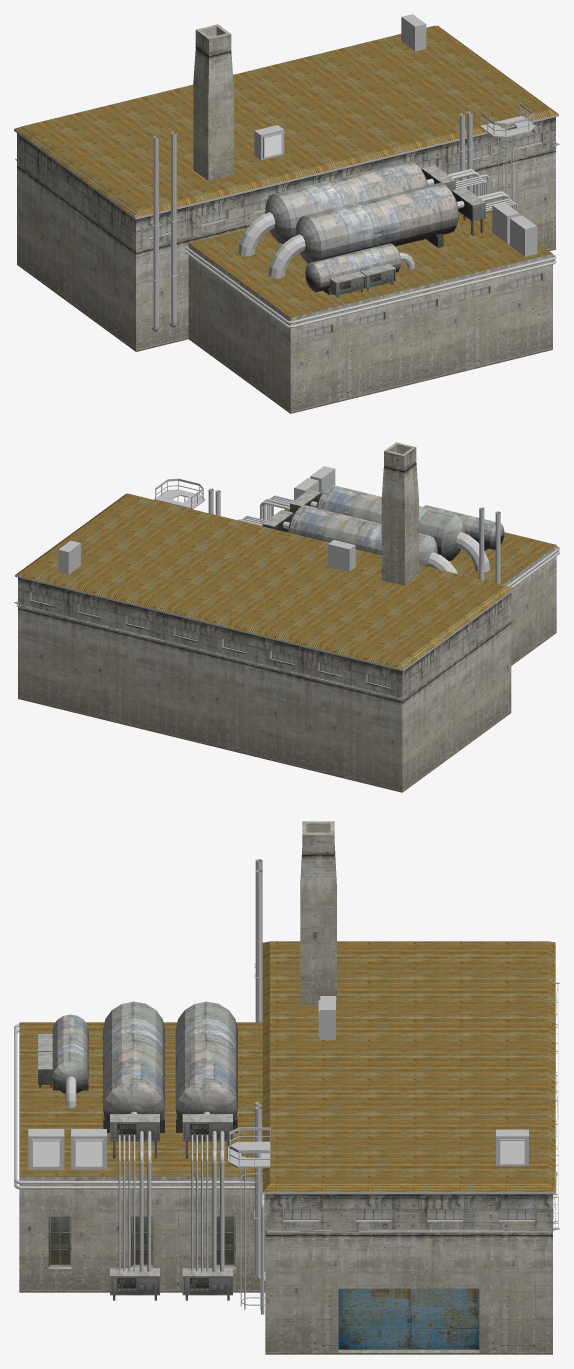
The model's file is building_3.fbx.
3 views of the same model, one above another, from view 1: azimuth 30°, elevation 25°; view 2: azimuth 150°, elevation 25°; view 3: azimuth 270°, elevation 25° (orthographic). The views are drawn at different scales.
Parts seen in each view (by area): view 1: building_3_Layer1, building_3_Layer3, building_3_Layer2; view 2: building_3_Layer1, building_3_Layer3, building_3_Layer2; view 3: building_3_Layer1, building_3_Layer3, building_3_Layer2.
Boxes of the visible parts, x1=… form: building_3_Layer1: x1=14, y1=24, x2=559, y2=413; building_3_Layer3: x1=149, y1=14, x2=556, y2=327; building_3_Layer2: x1=480, y1=103, x2=535, y2=207; building_3_Layer1: x1=14, y1=442, x2=556, y2=792; building_3_Layer3: x1=30, y1=466, x2=559, y2=688; building_3_Layer2: x1=154, y1=478, x2=205, y2=509; building_3_Layer1: x1=19, y1=821, x2=559, y2=1354; building_3_Layer3: x1=14, y1=996, x2=534, y2=1314; building_3_Layer2: x1=228, y1=1127, x2=271, y2=1310.
Size of the model in its own units: 19.59 by 12.28 by 17.98.
